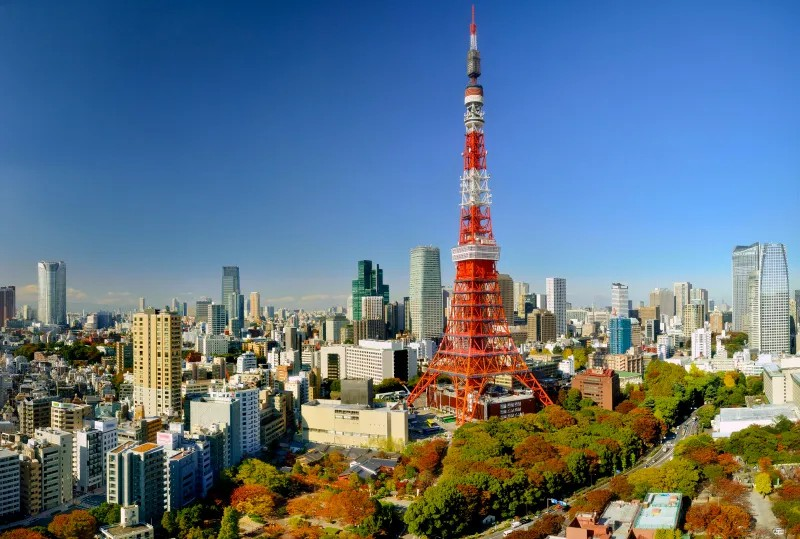Tokyo: (410, 2, 556, 428)
